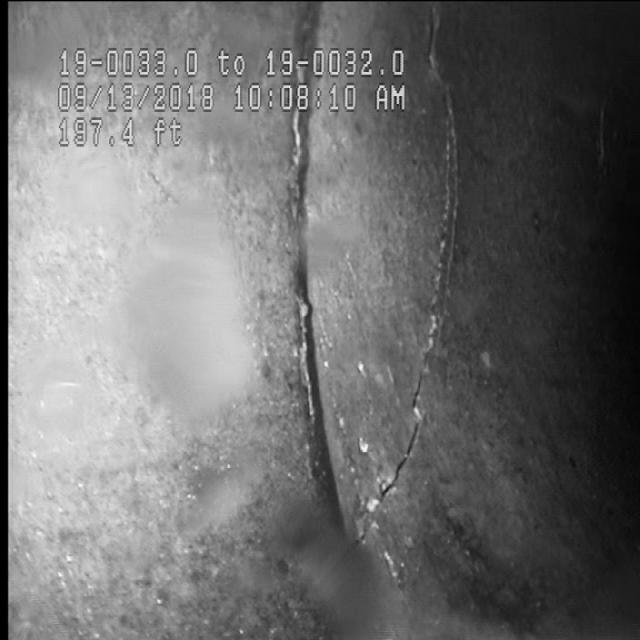Crack: (392, 36, 480, 514)
